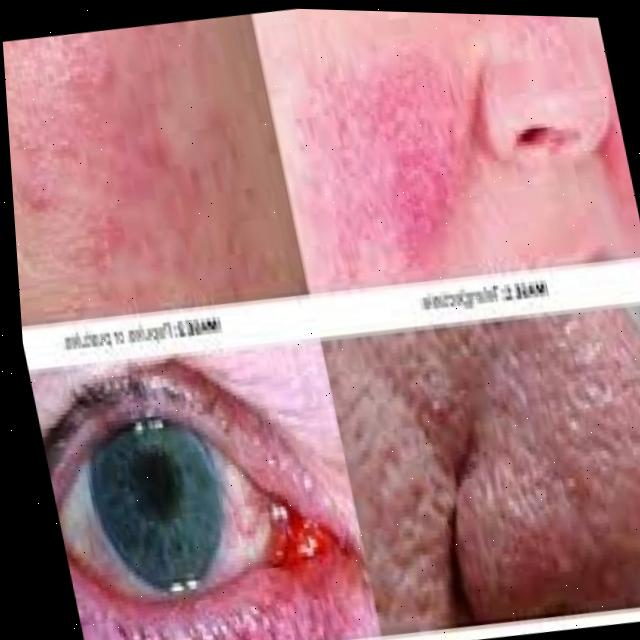Rosacea: (361, 279, 640, 609), (1, 11, 273, 305), (37, 386, 352, 627), (292, 40, 513, 275)
